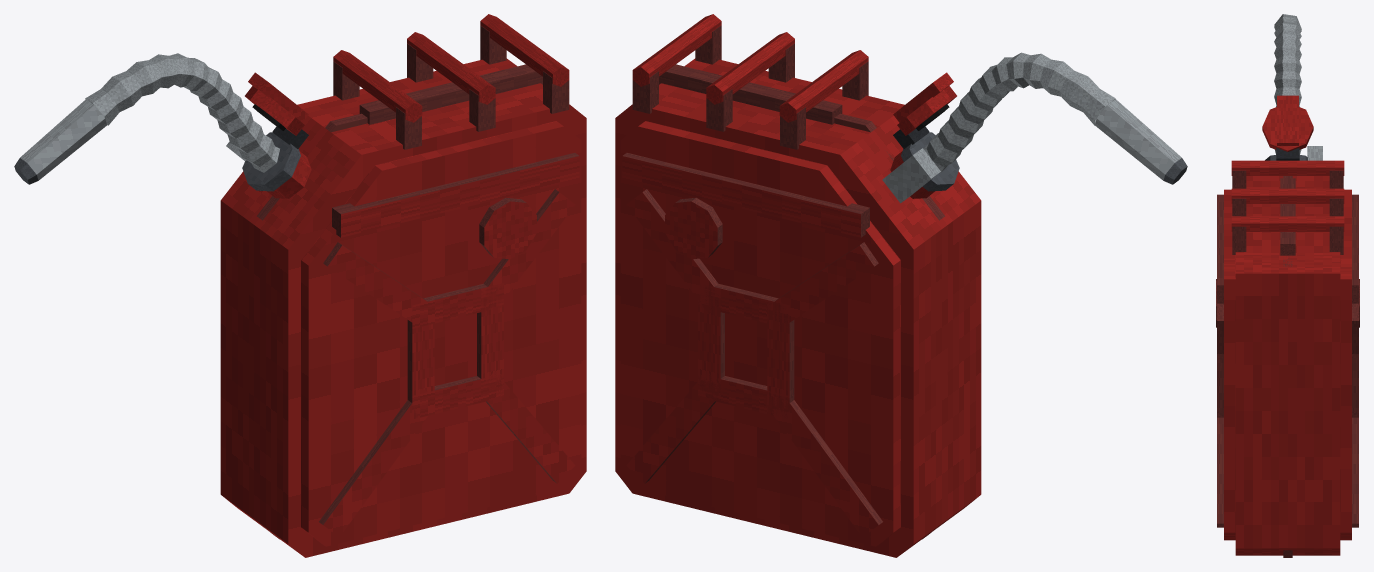
Rendered from gas_can.glb.
The picture shows the model from 3 angles, left to right: view 1: azimuth 30°, elevation 25°; view 2: azimuth 150°, elevation 25°; view 3: azimuth 270°, elevation 25°; orthographic projection. The views are drawn at different scales.
Visible parts, largest first — view 1: gas_can; view 2: gas_can; view 3: gas_can.
Part boxes in pixels (box(x1,y1,x2,y2)): gas_can: box(14, 14, 586, 557); gas_can: box(615, 14, 1187, 557); gas_can: box(1216, 14, 1359, 557).
Size of the model in its own units: 0.6191 by 0.562 by 0.185.
1 material, 1 textured.
